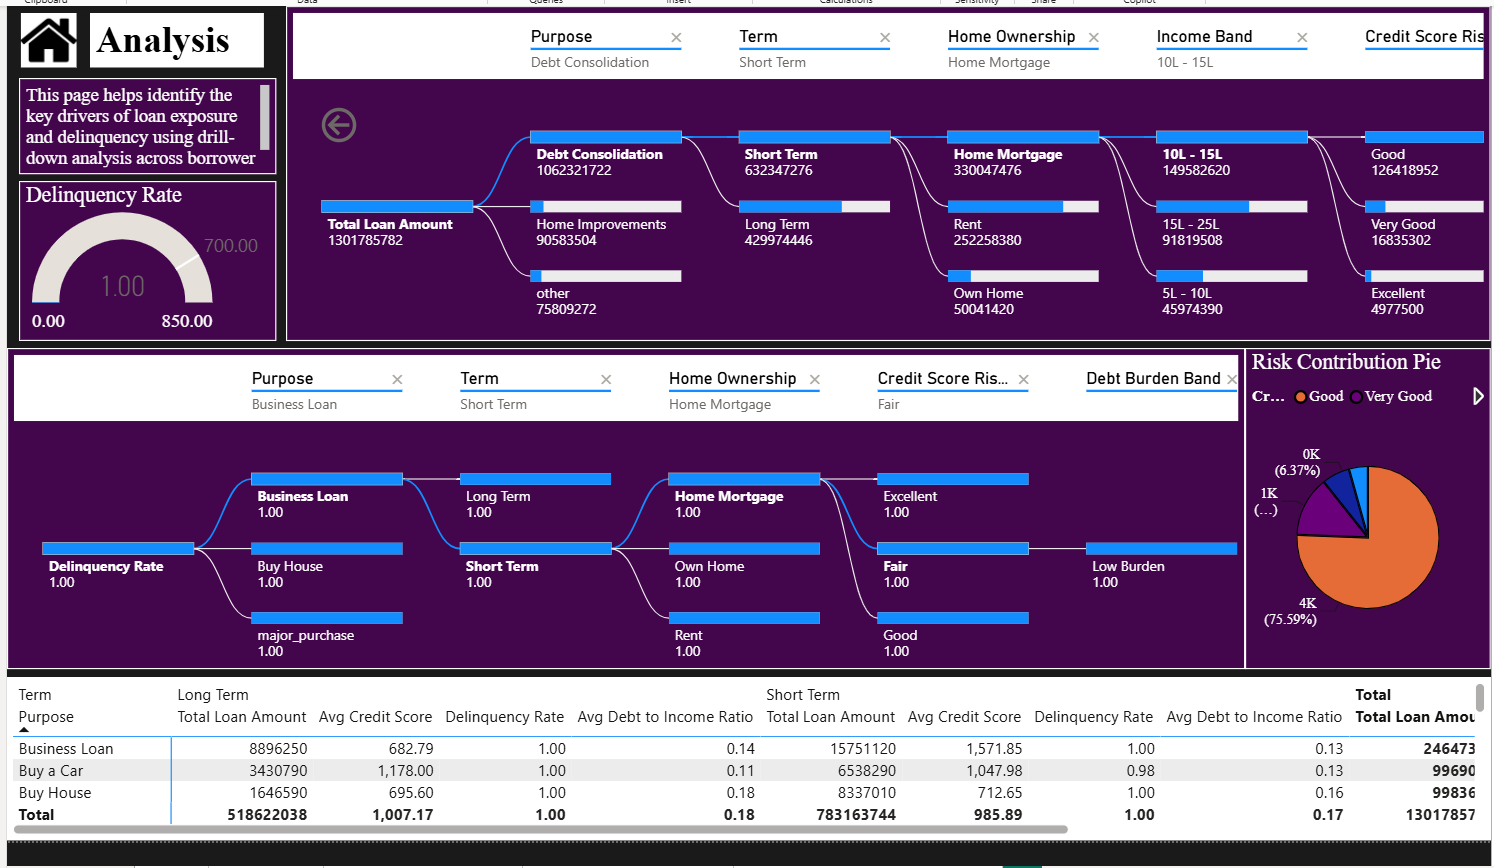

What the dashboard file says about the page in this screenshot:
{"tool":"powerbi","page":{"name":"Interactive Insights & Root-Cause Analysis","canvas":[1280,720],"ordinal":4},"visuals":[{"type":"decompositionTreeVisual","fields":{"Analyze":["credit_test.Total Loan Amount"],"ExplainBy":["credit_test.Purpose","credit_test.Term","credit_test.Home Ownership","credit_test.Income Band","credit_test.Credit Score Risk Band"]},"box":[240.8,0,1039.4,289],"z":0},{"type":"decompositionTreeVisual","fields":{"Analyze":["credit_test.Delinquency Rate"],"ExplainBy":["credit_test.Purpose","credit_test.Term","credit_test.Home Ownership","credit_test.Credit Score Risk Band","credit_test.Debt Burden Band"]},"box":[0,294.9,1068.2,277.2],"z":1000},{"type":"actionButton","box":[266.2,82.8,99.7,39.7],"z":2000},{"type":"gauge","fields":{"Y":["credit_test.Delinquency Rate"]},"box":[10.1,151.3,222.3,137.7],"z":3000},{"type":"pieChart","title":"Risk Contribution Pie","fields":{"Category":["credit_test.Credit Score Risk Band"],"Y":["credit_test.Loan Count"]},"box":[1068.2,294.9,212.1,277.2],"z":4000},{"type":"pivotTable","fields":{"Rows":["credit_test.Purpose"],"Columns":["credit_test.Term"],"Values":["credit_test.Total Loan Amount","credit_test.Avg Credit Score","credit_test.Delinquency Rate","credit_test.Avg Debt to Income Ratio"]},"box":[0,578.7,1280,141],"z":5000},{"type":"image","box":[0,5.9,71.8,47.3],"z":6000},{"type":"textbox","box":[71.8,5.9,150.4,47.3],"z":7000},{"type":"textbox","box":[10.1,61.7,222.3,82.8],"z":8000}]}

Visuals, with their boxes in screenshot pixels (x1, y1, x2, y2):
decompositionTreeVisual - credit_test.Total Loan Amount x credit_test.Purpose: (281,8,1477,340)
decompositionTreeVisual - credit_test.Delinquency Rate x credit_test.Purpose: (4,347,1233,666)
actionButton: (310,103,425,149)
gauge - credit_test.Delinquency Rate: (16,182,271,340)
"Risk Contribution Pie" pieChart: (1233,347,1478,666)
pivotTable - credit_test.Purpose x credit_test.Term: (4,674,1477,836)
image: (4,15,87,69)
textbox: (87,15,260,69)
textbox: (16,79,271,174)
